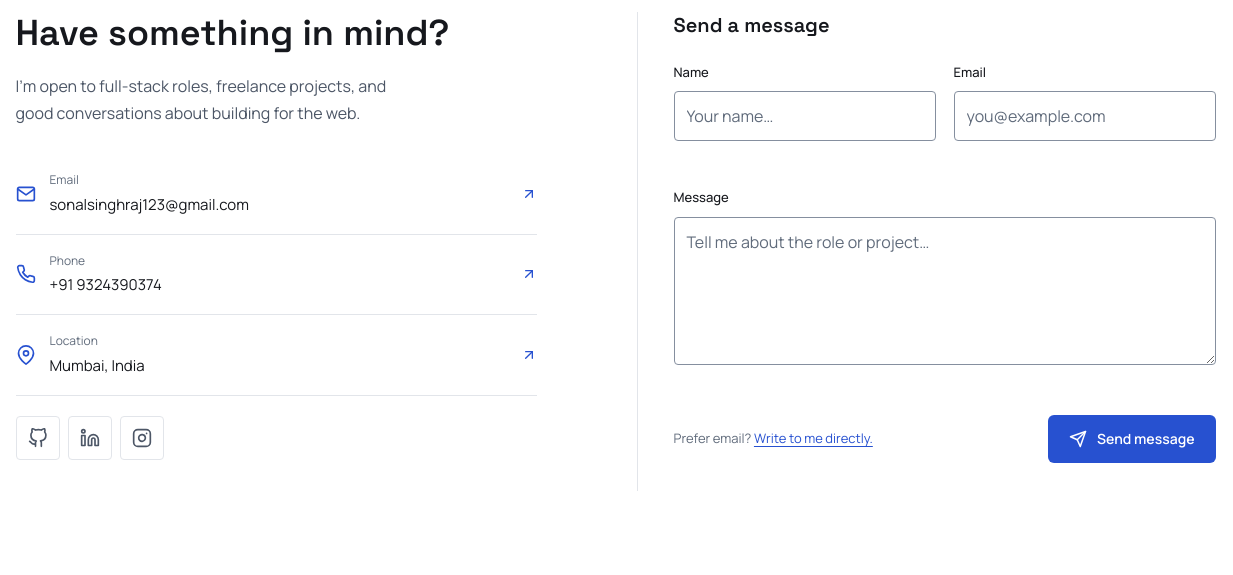
HTTP 200 without a confirmed JSON save is not treated as success (0)
The image size is (1233, 575).
Type "UI Test" into the field labelled "Name".
click(804, 116); type("UI Test")  # box [674,91,936,141]
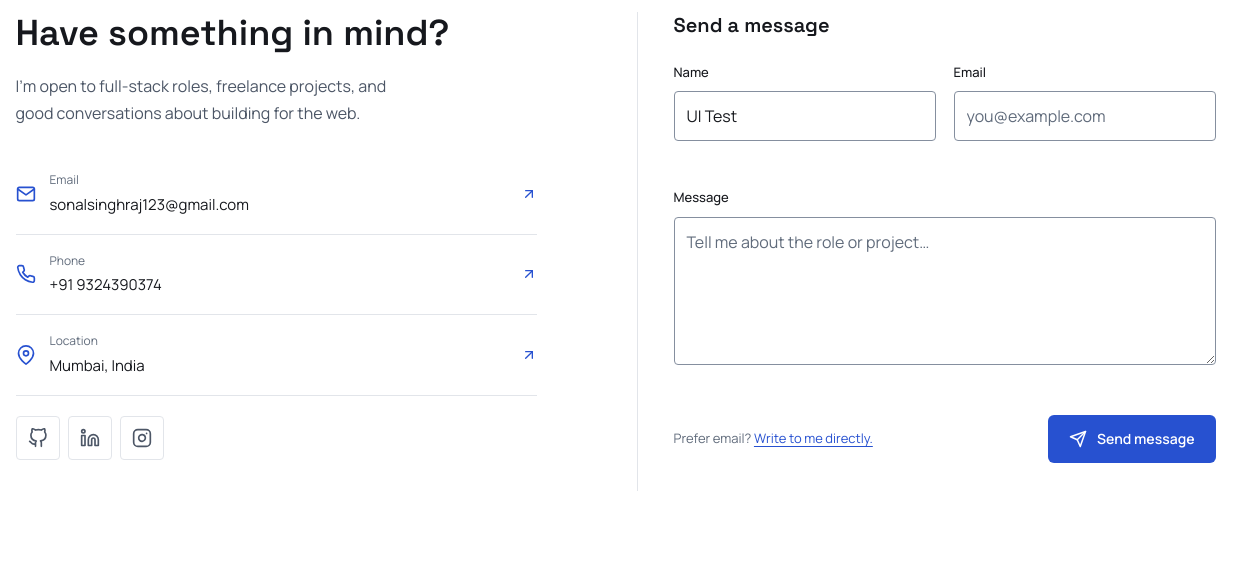
Type "ui-test@example.com" into the field labelled "Email".
click(1084, 116); type("ui-test@example.com")  # box [954,91,1216,141]
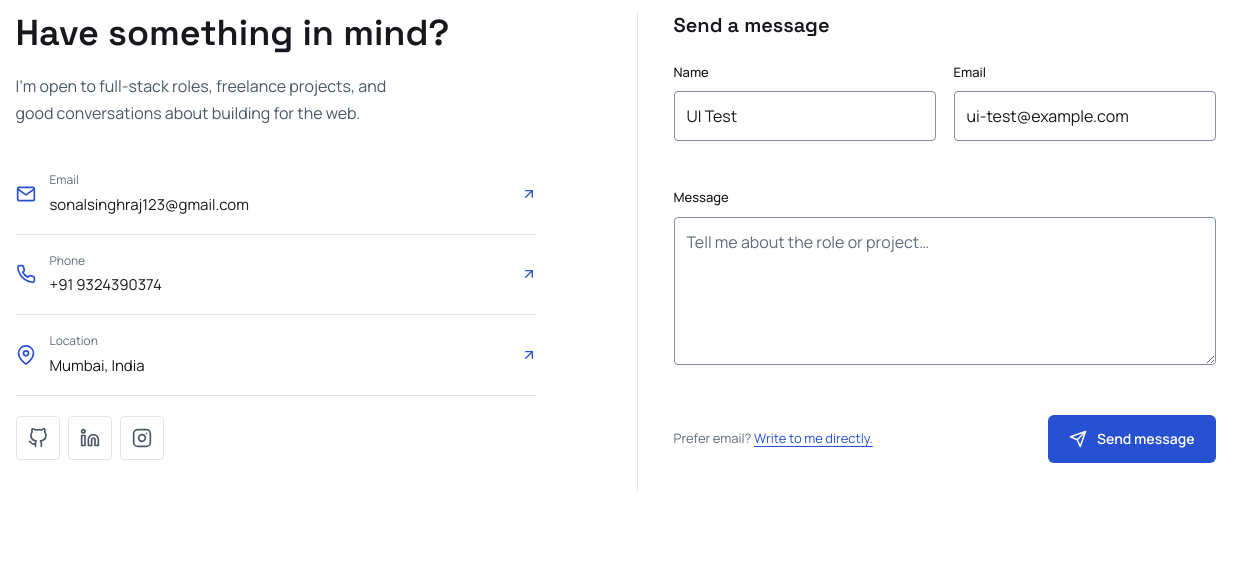
Type "Testing the local contact interface." into the text box labelled "Message".
click(944, 291); type("Testing the local contact interface.")  # box [674,217,1216,365]
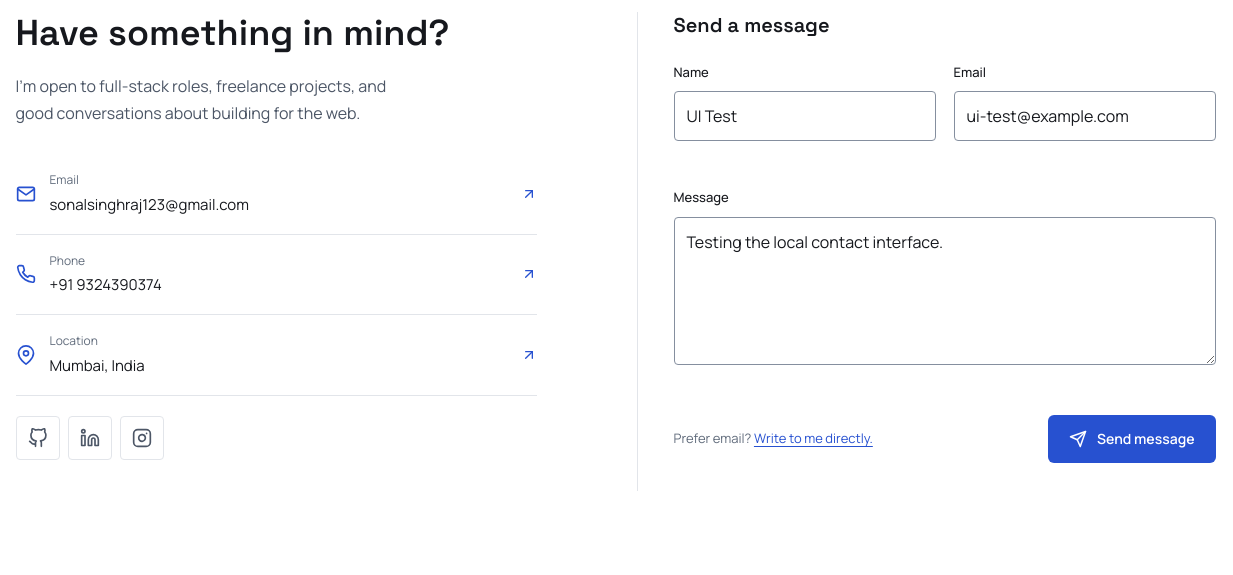
Click the button "Send message".
click(1132, 439)  # box [1048,415,1216,463]
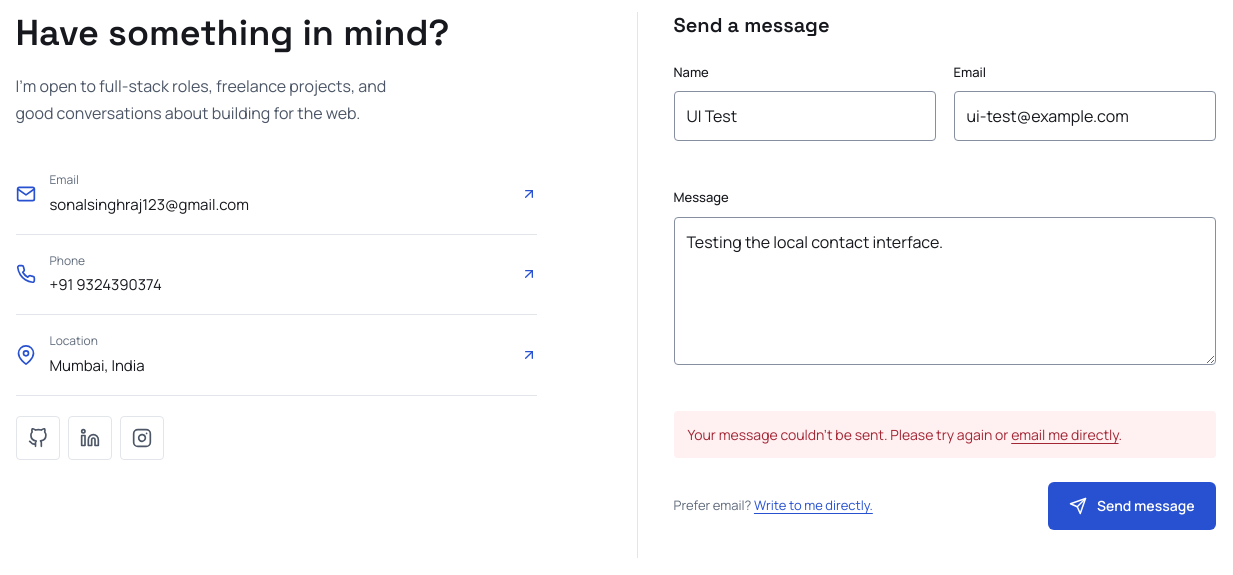
Expected: the message "Your message couldn't be sent. Please try again or email me directly ." is shown, [674,411,1216,458]
